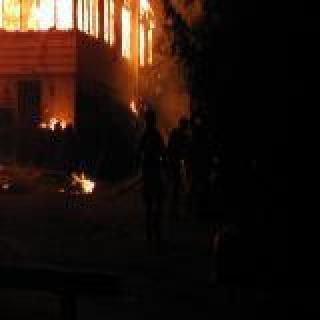fire: (0, 0, 142, 39), (38, 106, 70, 138), (72, 168, 100, 204)
